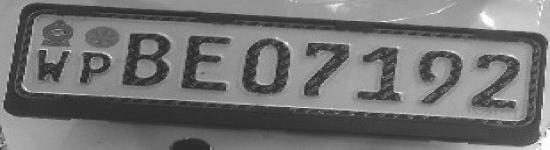1: (353, 41, 412, 108)
2: (468, 46, 523, 113)
7: (296, 36, 352, 100)
9: (410, 43, 466, 111)
B: (116, 26, 179, 92)
E: (180, 30, 238, 94)
O: (236, 35, 298, 97)
P: (72, 48, 116, 87)
W: (34, 46, 73, 84)
